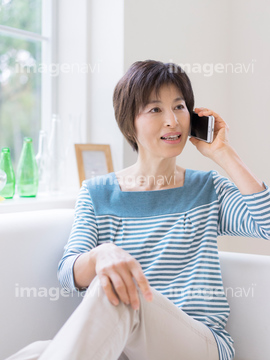phone: (186, 104, 230, 152)
talk: (142, 95, 234, 161)
